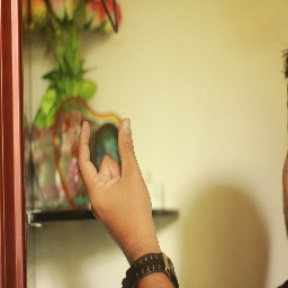U: (73, 111, 156, 246)
